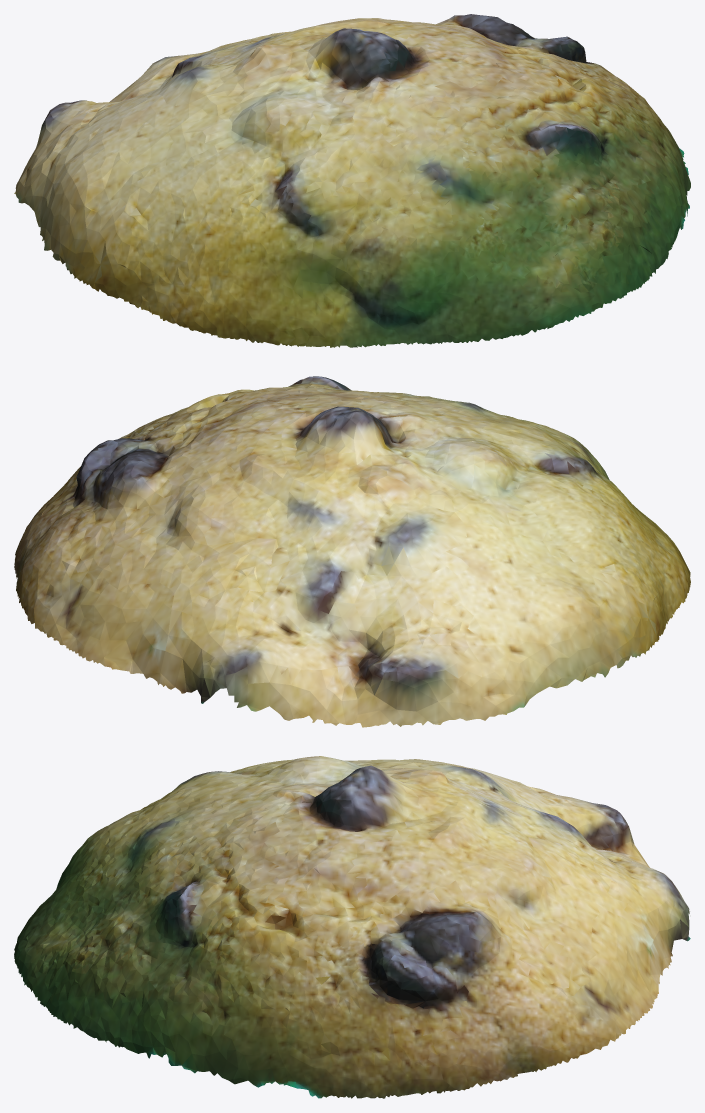
Rendered from cookie5.gltf.
3 renders of one model, top to bottom at view 1: azimuth 30°, elevation 25°; view 2: azimuth 150°, elevation 25°; view 3: azimuth 270°, elevation 25°, orthographic.
Parts seen in each view (by area): view 1: texturedMesh; view 2: texturedMesh; view 3: texturedMesh.
Boxes of the visible parts, x1=… form: texturedMesh: x1=14, y1=14, x2=690, y2=347; texturedMesh: x1=14, y1=376, x2=690, y2=727; texturedMesh: x1=14, y1=756, x2=690, y2=1098.
Size of the model in its own units: 0.7736 by 0.2247 by 0.7606.
1 material, 1 textured.
